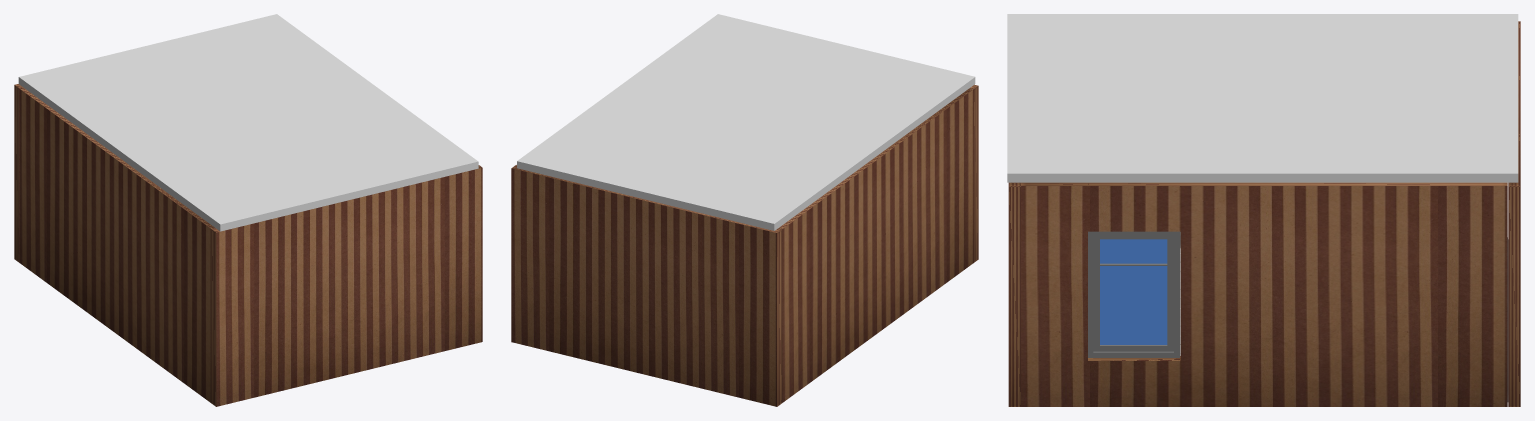
Rendered from ROOM.FBX.
3 views of the same model, side by side, from view 1: azimuth 30°, elevation 25°; view 2: azimuth 150°, elevation 25°; view 3: azimuth 270°, elevation 25° (orthographic). The views are drawn at different scales.
Parts seen in each view (by area): view 1: Sides, POTOLOK; view 2: Sides, POTOLOK; view 3: Sides, POTOLOK, Glass, Window Frame.
Part boxes in pixels (box(x1,y1,x2,y2)): Sides: box(14, 84, 482, 406); POTOLOK: box(18, 14, 478, 231); Sides: box(511, 84, 978, 406); POTOLOK: box(517, 14, 975, 230); Sides: box(1008, 21, 1520, 406); POTOLOK: box(1007, 14, 1518, 182); Glass: box(1100, 239, 1167, 344); Window Frame: box(1088, 231, 1179, 357).
Size of the model in its own units: 64 by 42.23 by 84.24.
